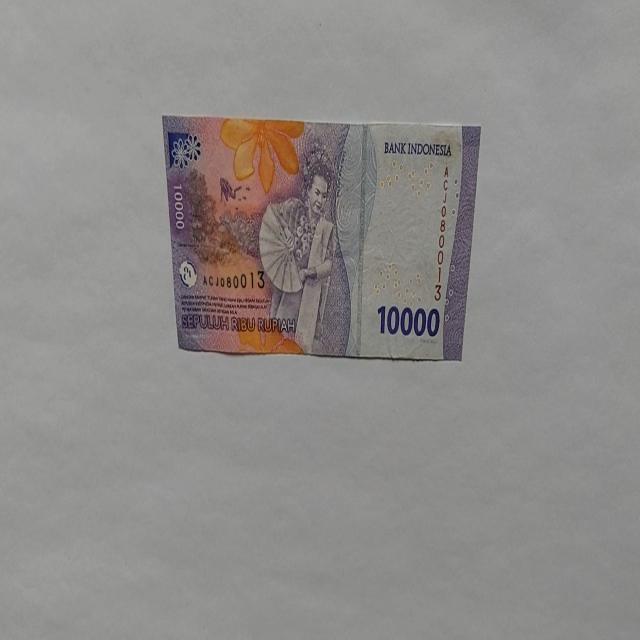sepuluh ribu rupiah: (161, 114, 481, 362)
